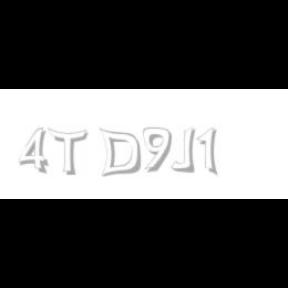1: (196, 128, 218, 176)
4: (17, 128, 48, 174)
9: (142, 128, 171, 172)
D: (98, 128, 142, 178)
J: (170, 128, 196, 172)
T: (48, 128, 88, 176)
